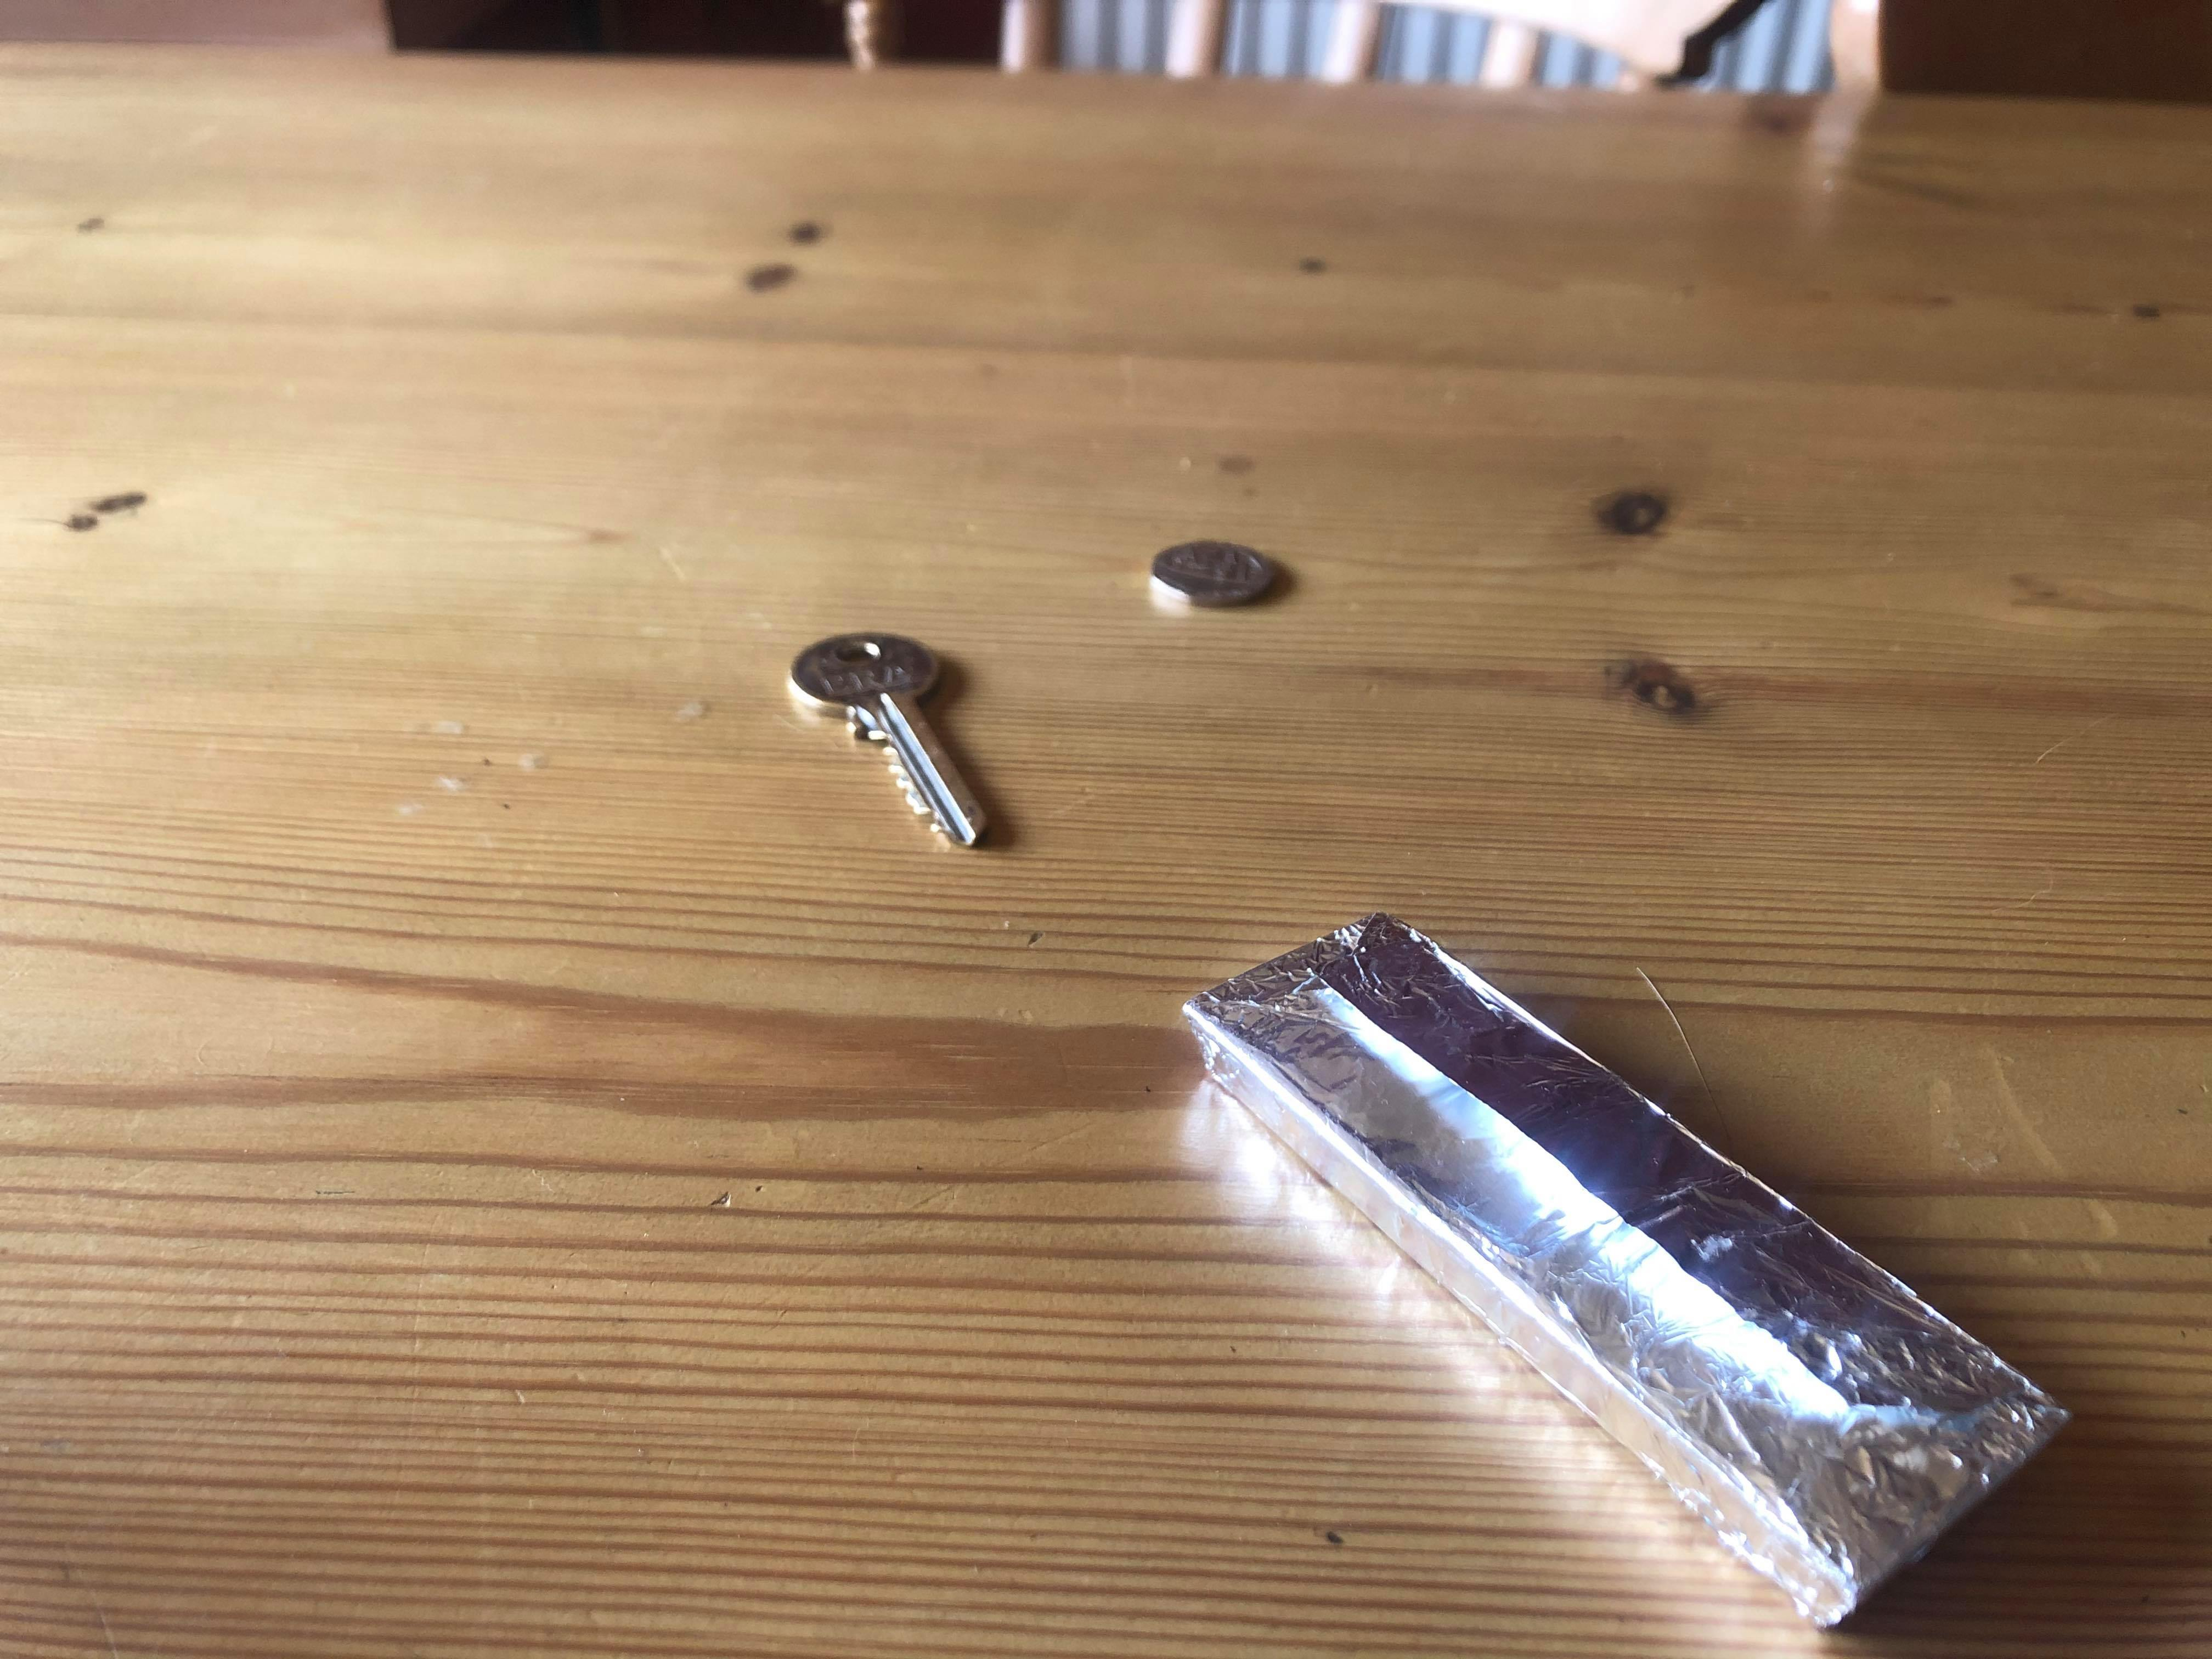Coin: (1137, 538, 1282, 612)
Foil: (1170, 899, 2090, 1642)
Key: (782, 626, 996, 849)
